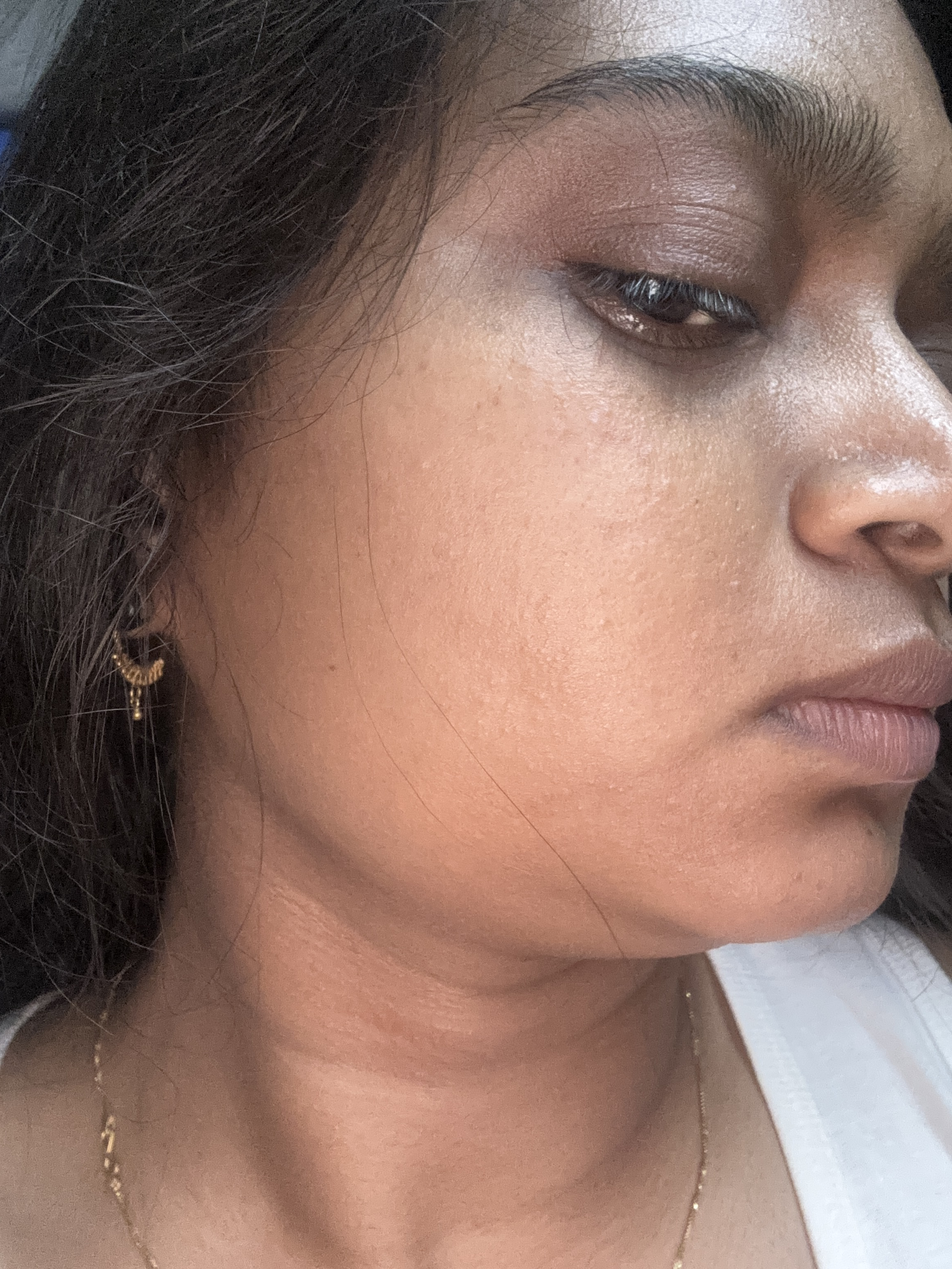closed_comedone: (406, 449, 448, 500), (459, 413, 498, 442)
